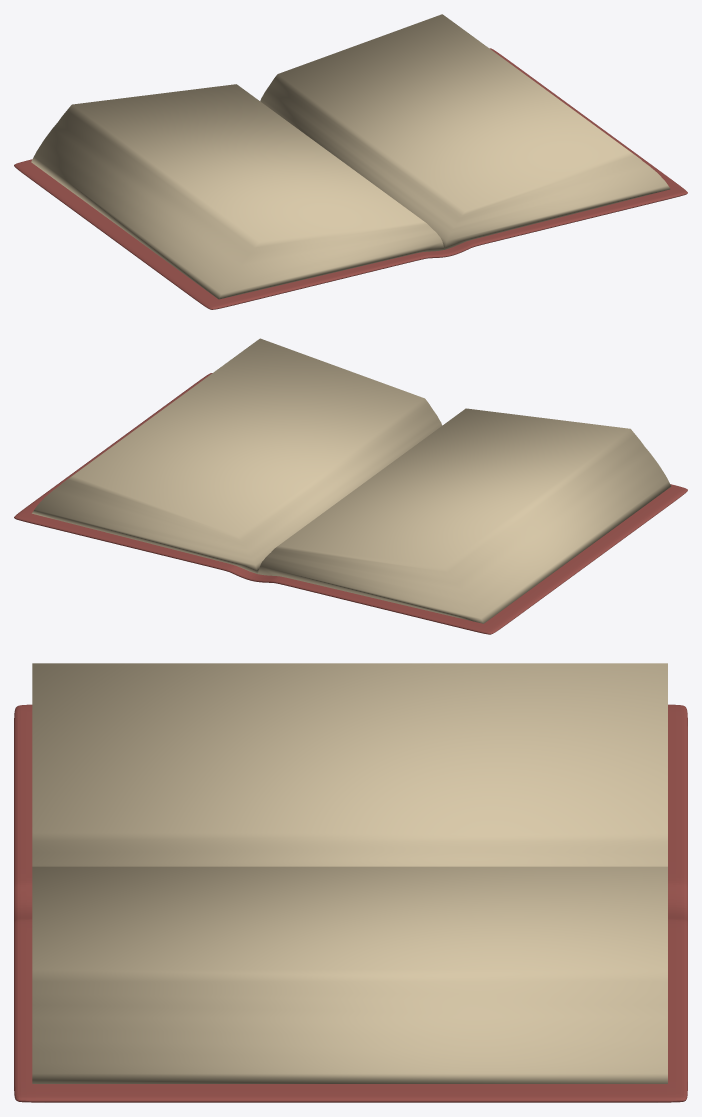
File: book 1.fbx
3 renders of one model, top to bottom at view 1: azimuth 30°, elevation 25°; view 2: azimuth 150°, elevation 25°; view 3: azimuth 270°, elevation 25°, orthographic. The views are drawn at different scales.
Visible parts, largest first — view 1: Plane.001, Plane; view 2: Plane.001, Plane; view 3: Plane.001, Plane.
Boxes of the visible parts, bbox=[...] form: Plane.001: bbox=[31, 14, 670, 299]; Plane: bbox=[14, 48, 687, 309]; Plane.001: bbox=[32, 338, 671, 623]; Plane: bbox=[14, 373, 687, 634]; Plane.001: bbox=[32, 663, 667, 1083]; Plane: bbox=[14, 704, 687, 1102].
Size of the model in its own units: 278 by 31.46 by 200.
